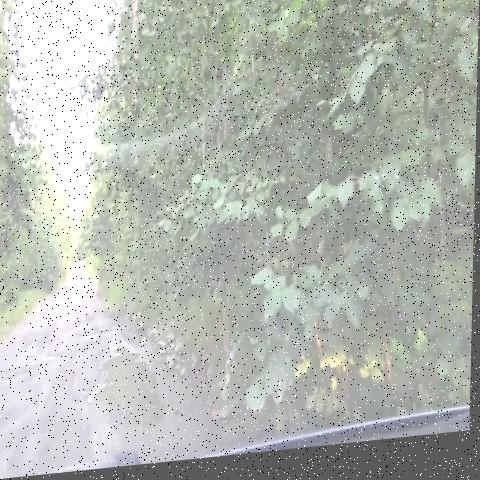pothole: (77, 351, 174, 448), (1, 349, 63, 385), (74, 318, 129, 354)
